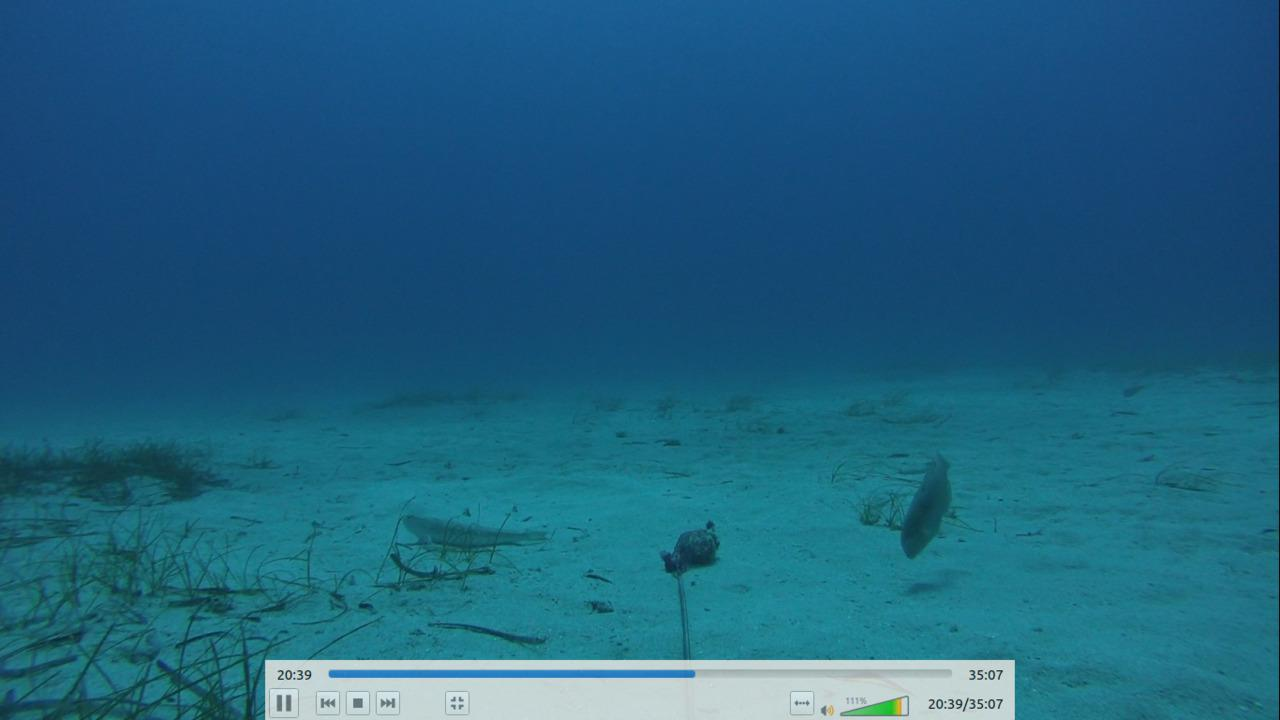raor: (899, 450, 955, 563)
